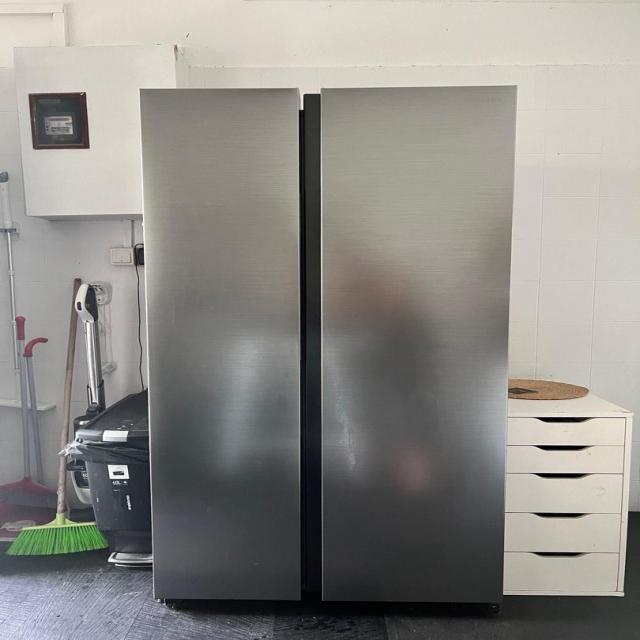refrigerator: (139, 86, 517, 611)
